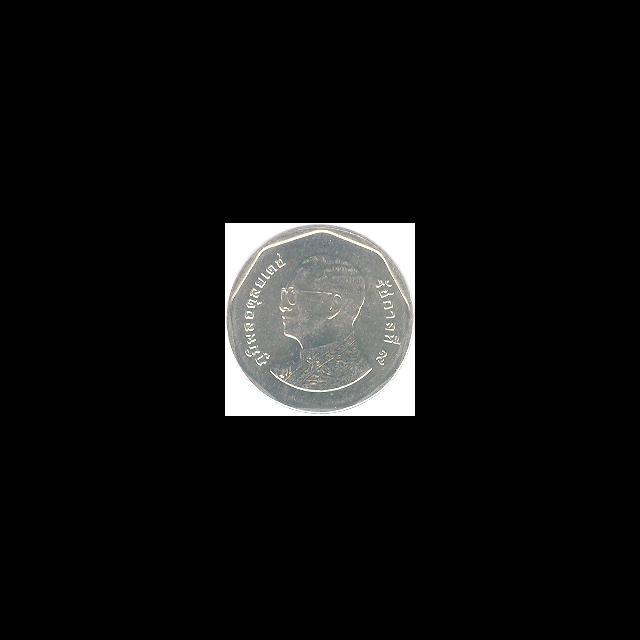5-baht: (225, 224, 415, 416)
